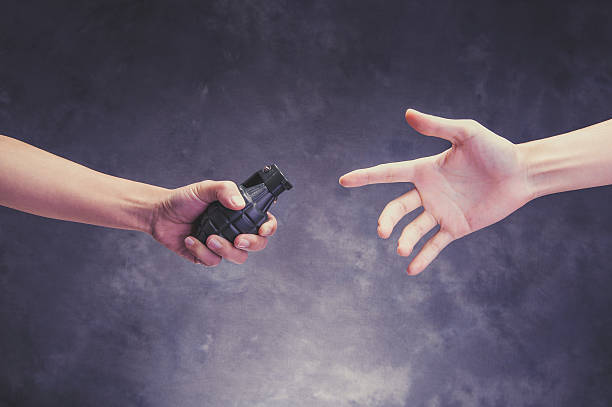e1: (192, 162, 291, 249)
